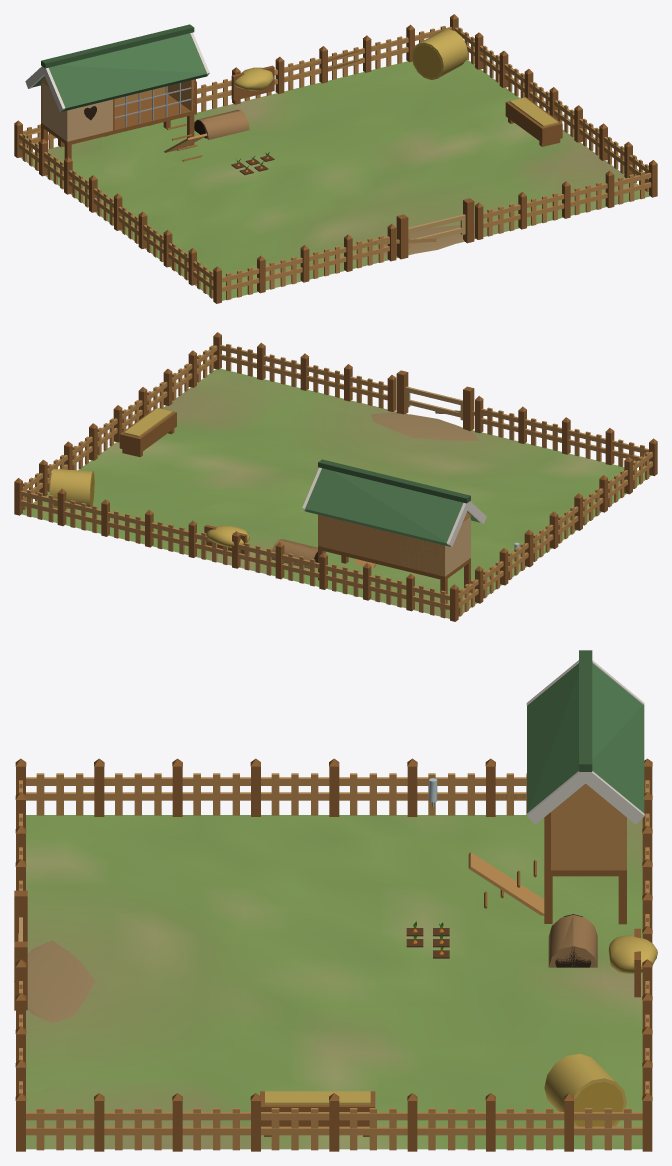
File: hutch-g2.glb
3 renders of one model, top to bottom at view 1: azimuth 30°, elevation 25°; view 2: azimuth 150°, elevation 25°; view 3: azimuth 270°, elevation 25°, orthographic. The views are drawn at different scales.
Visible parts, largest first — view 1: home-hutch-g2, home-hutch-g2-far; view 2: home-hutch-g2, home-hutch-g2-far; view 3: home-hutch-g2, home-hutch-g2-far.
Part boxes in pixels (x1,y1,x2,y2): home-hutch-g2: (14, 14, 653, 303); home-hutch-g2-far: (14, 14, 657, 303); home-hutch-g2: (14, 332, 657, 621); home-hutch-g2-far: (19, 335, 656, 620); home-hutch-g2: (14, 650, 657, 1151); home-hutch-g2-far: (14, 650, 652, 1151).
Size of the model in its own units: 9.73 by 2.56 by 7.81.
